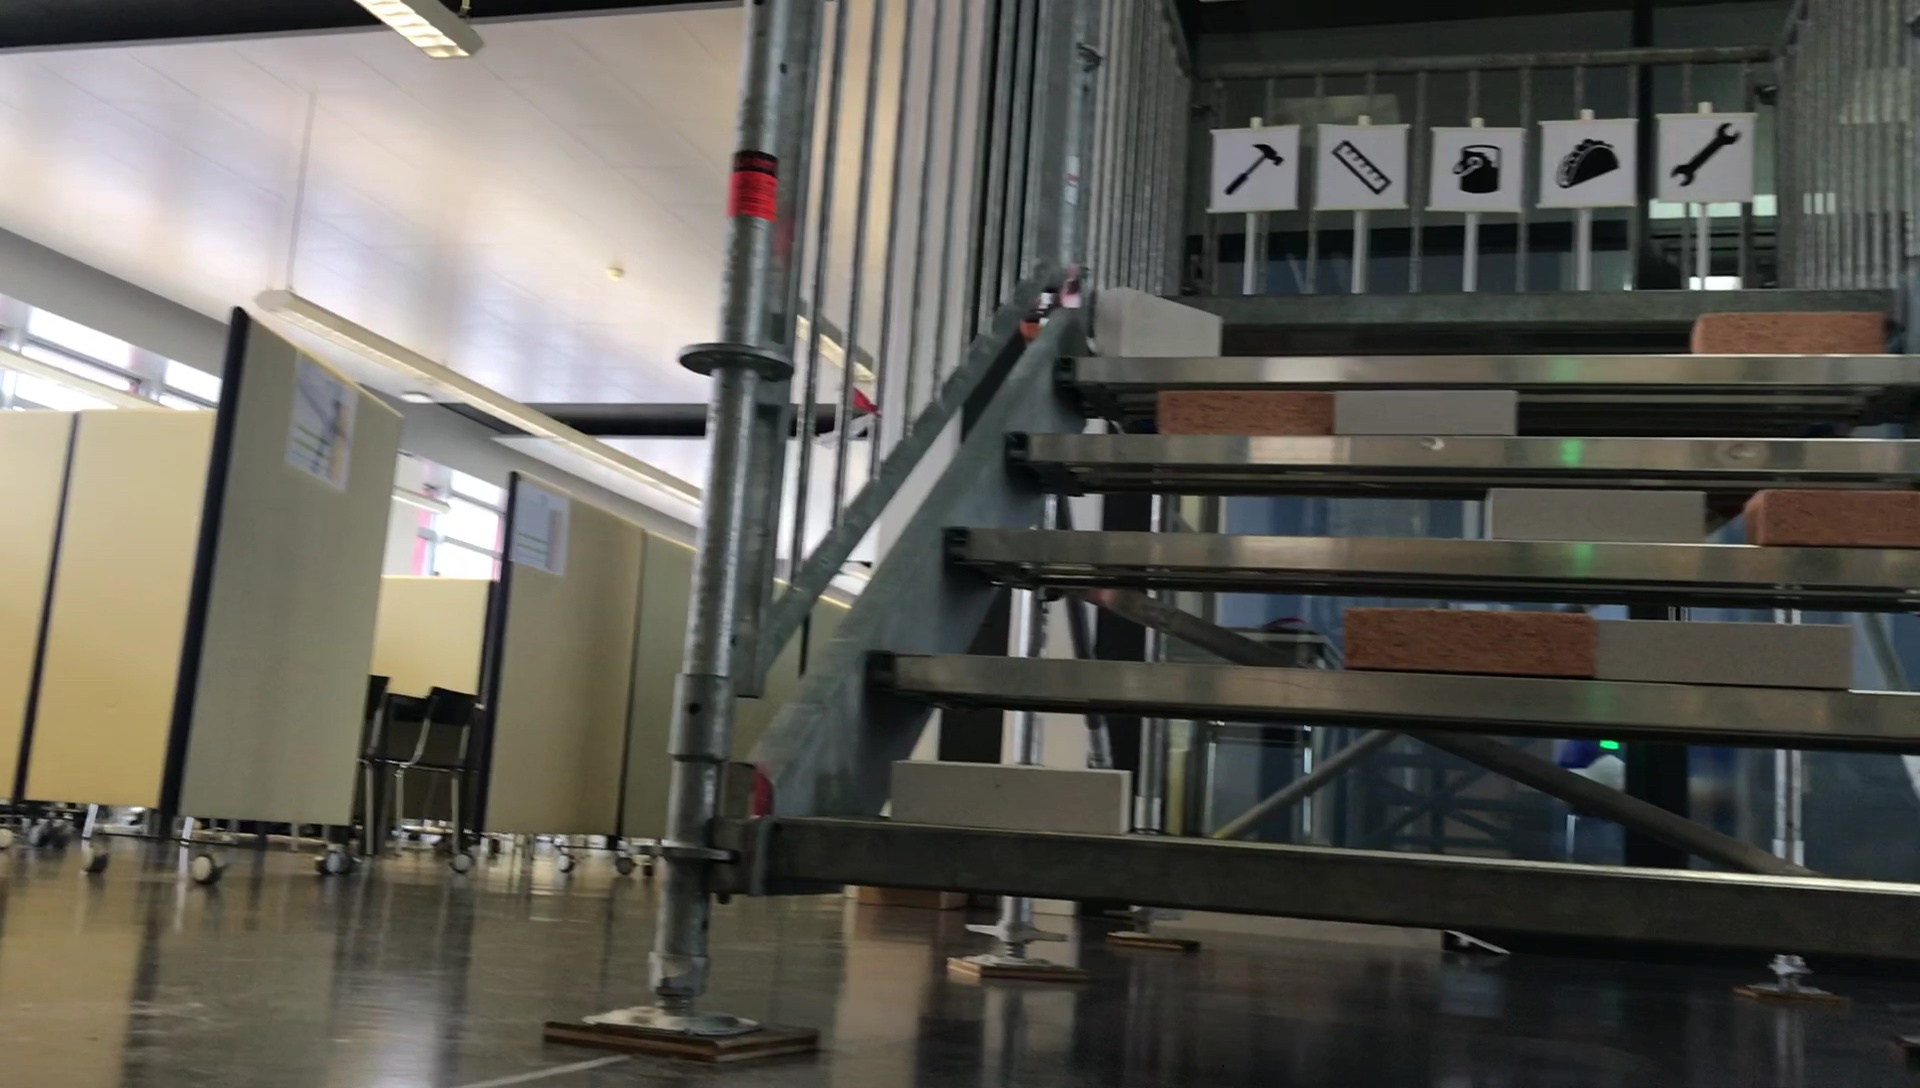brick: (887, 753, 1137, 826), (1588, 621, 1863, 677), (1345, 613, 1590, 667), (1482, 491, 1702, 543), (1751, 491, 1920, 545), (1095, 291, 1220, 361), (1327, 385, 1516, 427), (1683, 314, 1899, 347), (1139, 401, 1319, 437)
bucket: (1451, 138, 1505, 198)
edge: (748, 819, 1920, 956), (874, 651, 1920, 735), (944, 521, 1920, 597), (1007, 430, 1920, 473), (1133, 284, 1903, 324), (1054, 357, 1916, 389)
hammer: (1222, 138, 1283, 198)
ruler: (1329, 141, 1400, 195)
stairs: (647, 0, 1920, 1048)
steps: (723, 276, 1920, 915)
taco: (1552, 138, 1618, 193)
wrench: (1672, 125, 1745, 183)
